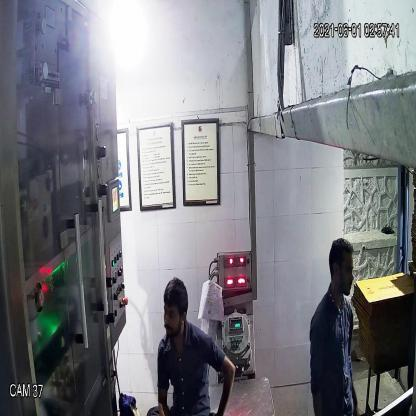no_goggles: (161, 302, 188, 324)
